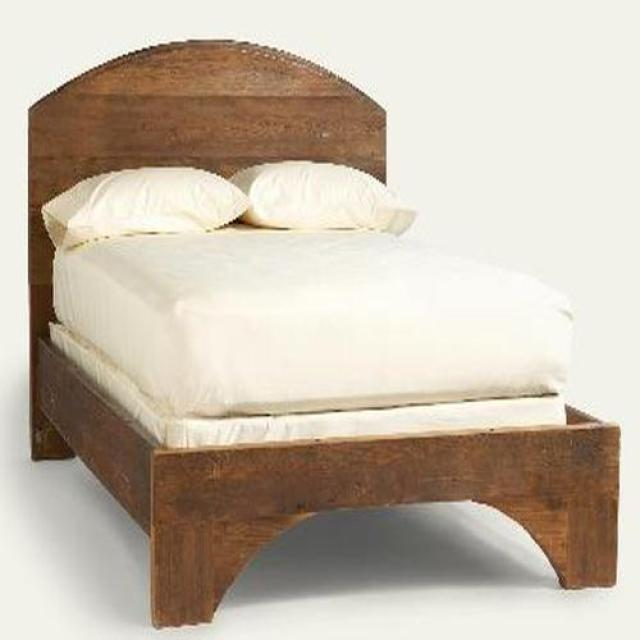bed: (28, 40, 622, 627)
